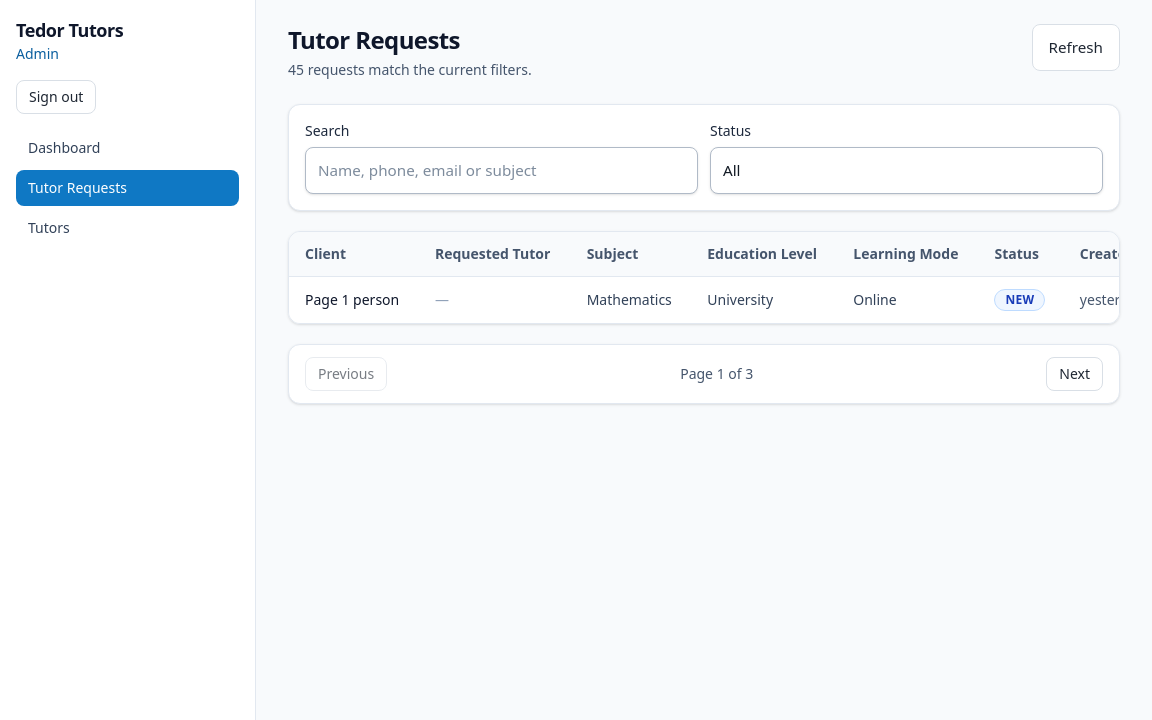
Test case: AdminRequestsPage › shows pagination and moves between pages
The width and height of the screenshot is (1152, 720).
Expected: the text "Page 1 of 3" is shown, [680, 364, 753, 384]
Click the button "Next".
click(1075, 374)  # box [1046, 357, 1103, 391]
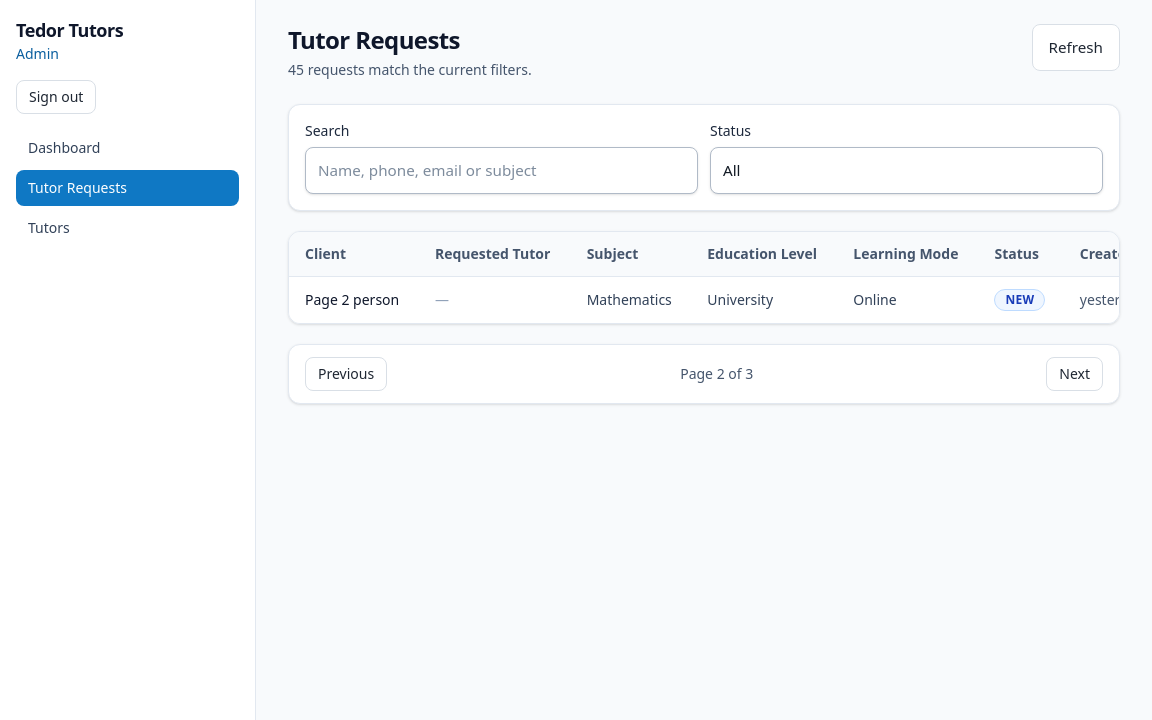
Expected: the text "Page 2 of 3" is shown, [680, 364, 753, 384]
